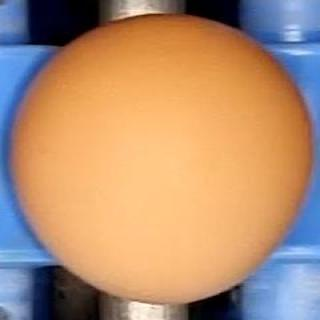Telur: (8, 14, 316, 307)
